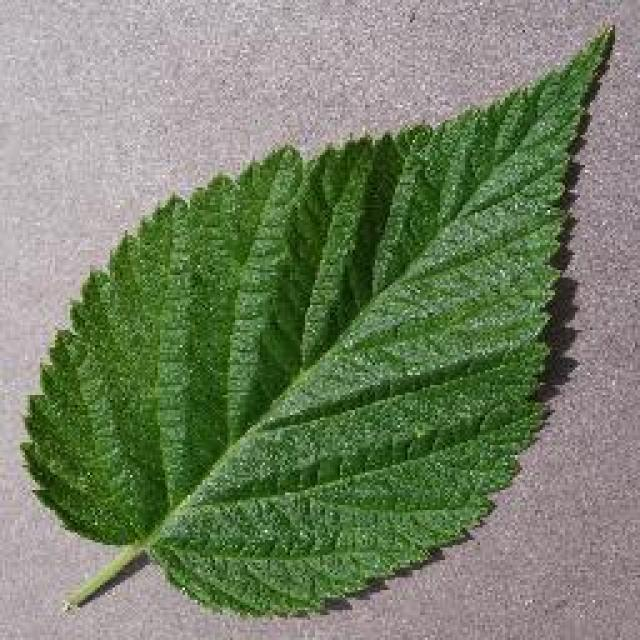Ras_healthy: (54, 109, 606, 516)
